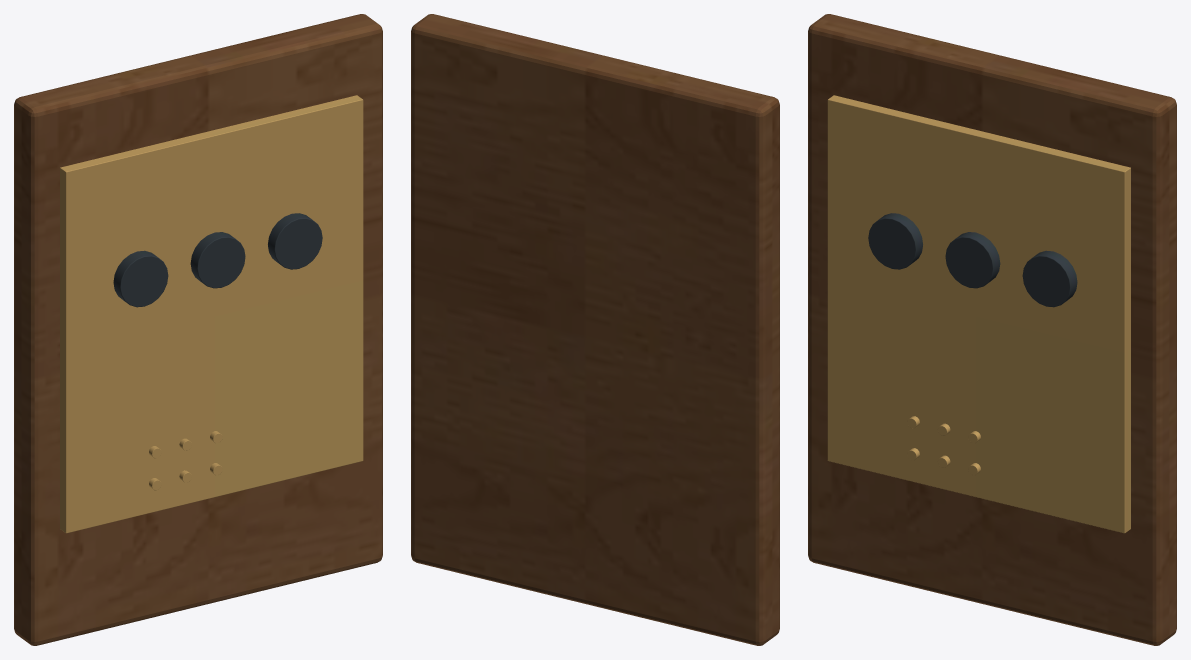
File: room-sign-original-hotel-furnishing.glb
The picture shows the model from 3 angles, left to right: view 1: azimuth 30°, elevation 25°; view 2: azimuth 150°, elevation 25°; view 3: azimuth 330°, elevation 25°; orthographic projection.
Visible parts, largest first — view 1: Room sign inset, Room sign backing, Original raised wayfinding dot, Original raised wayfinding dot.001, Original raised wayfinding dot.002; view 2: Room sign backing; view 3: Room sign inset, Room sign backing, Original raised wayfinding dot, Original raised wayfinding dot.001, Original raised wayfinding dot.002.
Part boxes in pixels (x1,y1,x2,y2): Room sign inset: [60, 95, 363, 533]; Room sign backing: [14, 14, 382, 645]; Original raised wayfinding dot: [113, 250, 168, 307]; Original raised wayfinding dot.001: [190, 232, 245, 288]; Original raised wayfinding dot.002: [268, 213, 322, 269]; Room sign backing: [411, 14, 779, 645]; Room sign inset: [827, 95, 1130, 533]; Room sign backing: [808, 14, 1176, 645]; Original raised wayfinding dot: [868, 213, 922, 269]; Original raised wayfinding dot.001: [945, 232, 1000, 288]; Original raised wayfinding dot.002: [1022, 250, 1077, 307].
Bounding box in the file's own units: 0.22 × 0.32 × 0.036.
3 materials, 3 textured.
